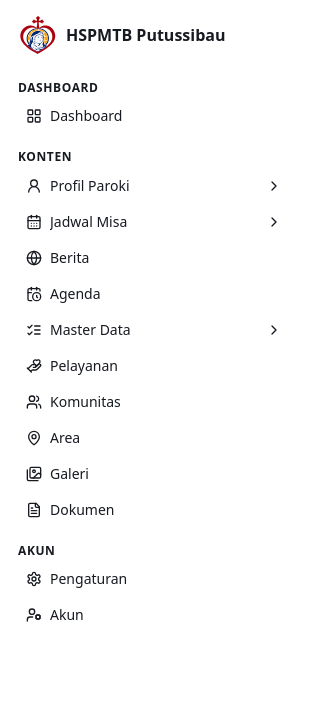
AppSidebar — Master Data › does not appear under Jadwal Misa as well
Step 1. Click the button "Jadwal Misa" → (89, 221), box x1=18 y1=206 x2=290 y2=238
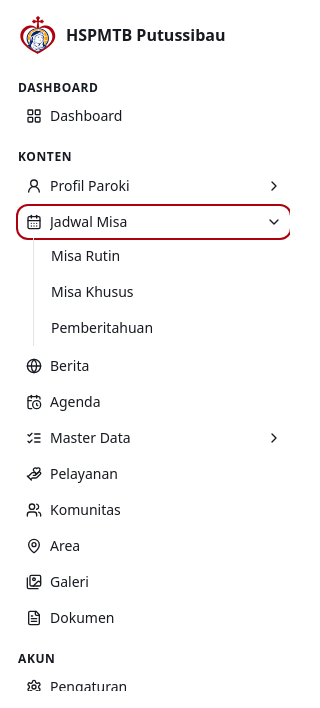
Step 2. Click the button "Master Data" → (90, 437), box x1=18 y1=422 x2=290 y2=454
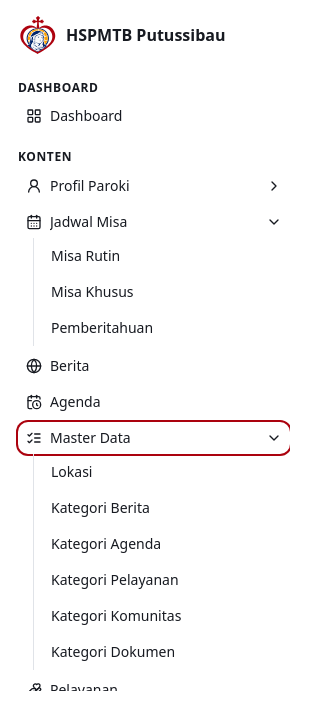
Step 3. Click the button "Profil Paroki" → (90, 185), box x1=18 y1=170 x2=290 y2=202
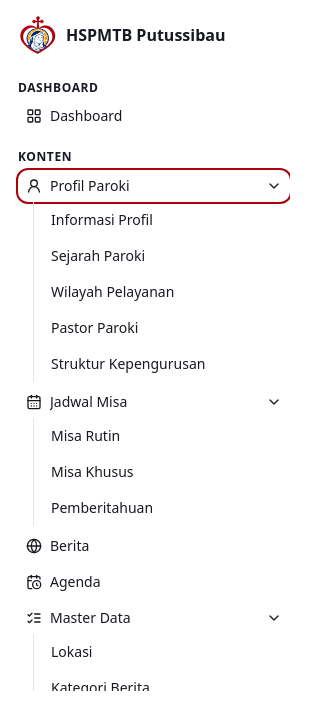
Now the number of links "Kategori Berita" is 1, box x1=51 y1=678 x2=150 y2=691
Now the number of links "Lokasi" is 1, box x1=51 y1=642 x2=92 y2=661
